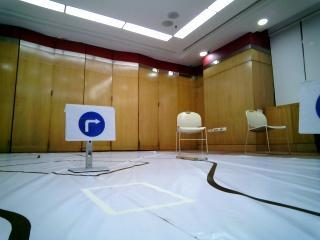right: (69, 104, 115, 141)
